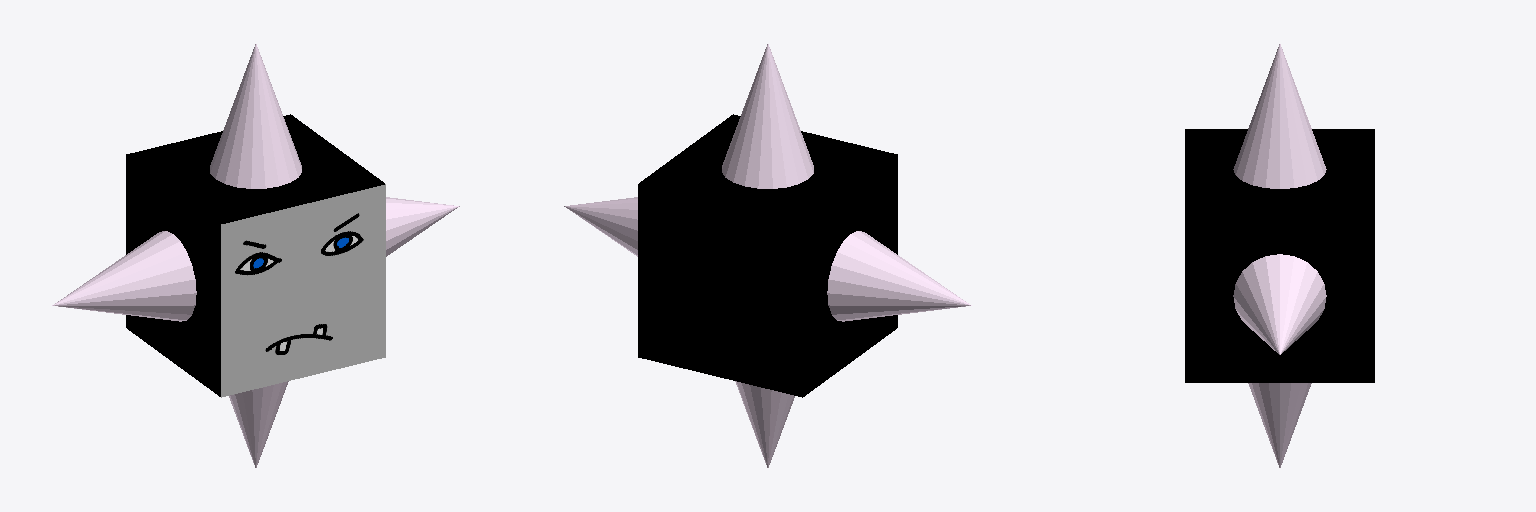
The picture shows the model from 3 angles: view 1: azimuth 30°, elevation 25°; view 2: azimuth 150°, elevation 25°; view 3: azimuth 270°, elevation 25°; orthographic projection.
Visible parts, largest first — view 1: pCube1, pCone3, pCone1, pCone4, pCone2; view 2: pCube1, pCone3, pCone1, pCone4, pCone2; view 3: pCube1, pCone1, pCone2, pCone4.
Boxes of the visible parts, box(x1,y1,x2,y2) form: pCube1: box(126, 114, 385, 397); pCone3: box(52, 231, 196, 321); pCone1: box(210, 44, 301, 188); pCone4: box(229, 381, 288, 467); pCone2: box(386, 197, 459, 256); pCube1: box(638, 114, 897, 397); pCone3: box(827, 231, 971, 321); pCone1: box(722, 44, 813, 188); pCone4: box(735, 381, 794, 467); pCone2: box(564, 197, 637, 256); pCube1: box(1185, 129, 1374, 382); pCone1: box(1233, 44, 1326, 188); pCone2: box(1233, 254, 1326, 354); pCone4: box(1248, 383, 1311, 467).
Bounding box in the file's own units: 4.93 × 4.93 × 2.
3 materials, 2 textured.